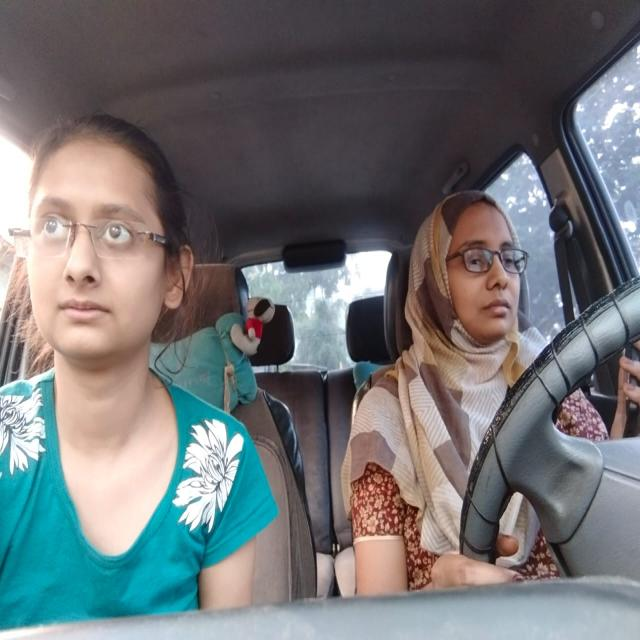mobile: (588, 299, 640, 424)
person: (8, 95, 200, 400), (417, 184, 540, 368)
